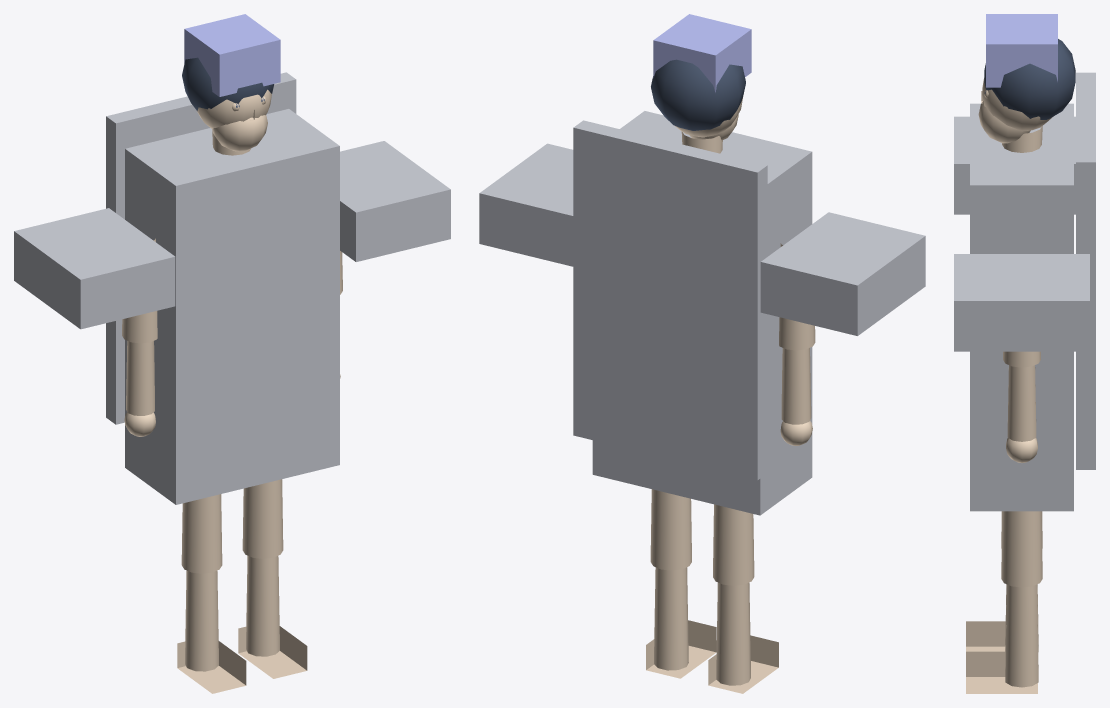
Rendered from body.glb.
3 views of the same model, side by side, from view 1: azimuth 30°, elevation 25°; view 2: azimuth 150°, elevation 25°; view 3: azimuth 270°, elevation 25° (orthographic). The views are drawn at different scales.
Parts seen in each view (by area): view 1: Cloth, Skin, Metal, Hair; view 2: Cloth, Skin, Hair, Metal; view 3: Cloth, Skin, Metal, Hair.
Part boxes in pixels (x1,y1,x2,y2): Cloth: (14,72,450,504); Skin: (122,89,342,693); Metal: (184,14,280,96); Hair: (182,57,274,111); Cloth: (479,111,925,515); Skin: (646,98,815,693); Hair: (651,59,745,130); Metal: (653,14,751,92); Cloth: (954,72,1095,511); Skin: (966,78,1053,693); Metal: (986,14,1057,87); Hair: (984,39,1075,119).
Size of the model in its own units: 1.09 by 1.77 by 0.355.
